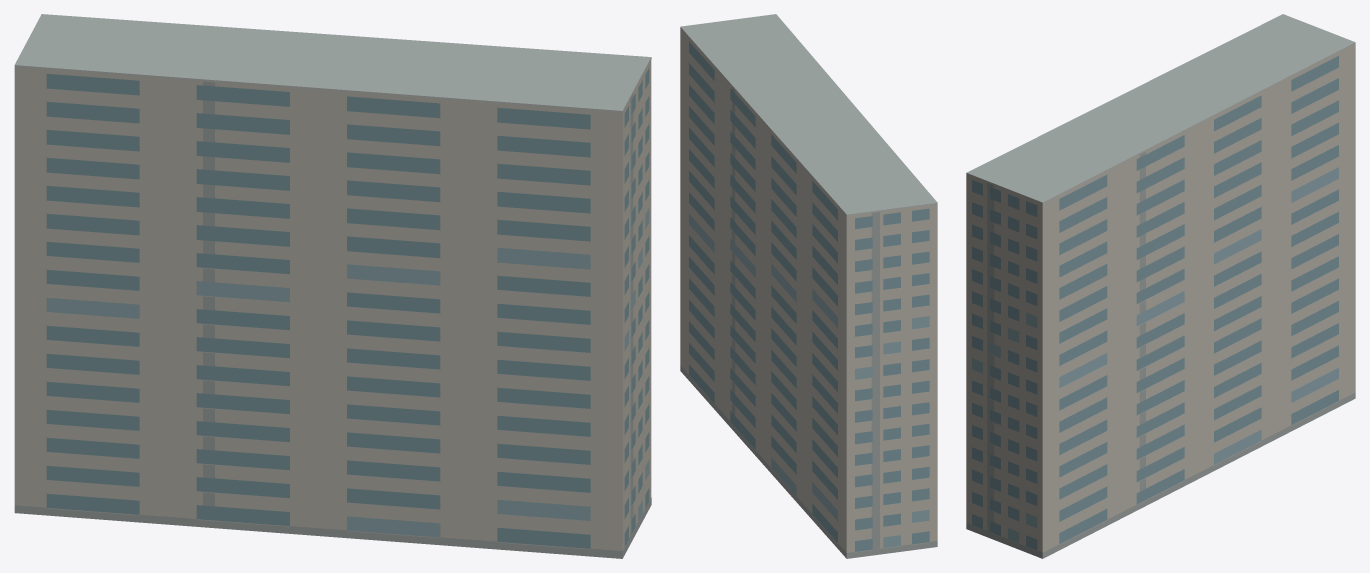
Rendered from residential-8767a416-cee9-475f-9bed-082a9e3c3906.glb.
3 views of the same model, side by side, from view 1: azimuth 30°, elevation 25°; view 2: azimuth 150°, elevation 25°; view 3: azimuth 270°, elevation 25° (orthographic). The views are drawn at different scales.
Parts seen in each view (by area): view 1: residential-8767a416-cee9-475f-9bed-082a9e3c3906.tmp; view 2: residential-8767a416-cee9-475f-9bed-082a9e3c3906.tmp; view 3: residential-8767a416-cee9-475f-9bed-082a9e3c3906.tmp.
Part boxes in pixels (bbox=[...]): residential-8767a416-cee9-475f-9bed-082a9e3c3906.tmp: bbox=[14, 14, 651, 558]; residential-8767a416-cee9-475f-9bed-082a9e3c3906.tmp: bbox=[680, 14, 937, 558]; residential-8767a416-cee9-475f-9bed-082a9e3c3906.tmp: bbox=[966, 14, 1355, 558].
Size of the model in its own units: 55.4 by 48.8 by 48.3.
